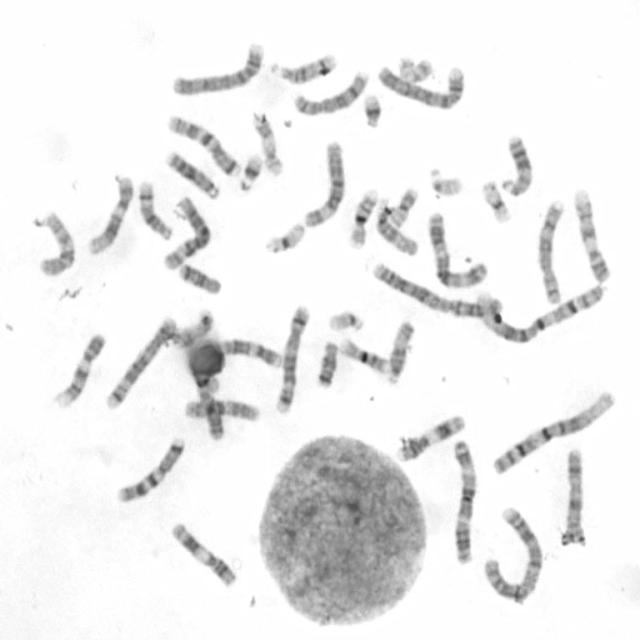A1: (487, 385, 618, 477), (472, 278, 606, 344)
A2: (369, 258, 501, 320), (479, 503, 544, 605)
A3: (425, 207, 490, 289), (447, 434, 478, 565)
B4: (167, 38, 265, 99), (372, 59, 467, 112)
B5: (102, 313, 178, 411), (272, 300, 312, 415)
C10: (33, 206, 77, 278), (180, 395, 262, 424)
C11: (166, 519, 240, 590), (394, 410, 468, 463)
C12: (85, 171, 135, 256), (215, 338, 283, 370)
C6: (300, 137, 346, 230), (160, 193, 212, 272)
C7: (163, 110, 241, 177), (112, 433, 186, 503)
C8: (290, 66, 371, 118), (534, 195, 566, 308)
C9: (50, 329, 107, 409), (570, 184, 612, 286)
D13: (163, 146, 220, 201), (498, 131, 534, 197)
D14: (268, 49, 338, 85), (135, 176, 173, 242)
D15: (372, 198, 420, 258), (382, 317, 416, 387)
E16: (345, 184, 381, 250), (337, 334, 389, 374)
E17: (249, 108, 285, 178), (173, 306, 215, 350)
E18: (176, 260, 222, 296), (313, 337, 340, 389)
F19: (478, 176, 514, 226), (262, 218, 306, 256)
F20: (388, 185, 421, 229), (395, 52, 436, 85)
G21: (236, 150, 264, 193), (360, 90, 384, 130)
G22: (427, 164, 464, 198), (324, 306, 366, 334)
X: (559, 444, 588, 548)
